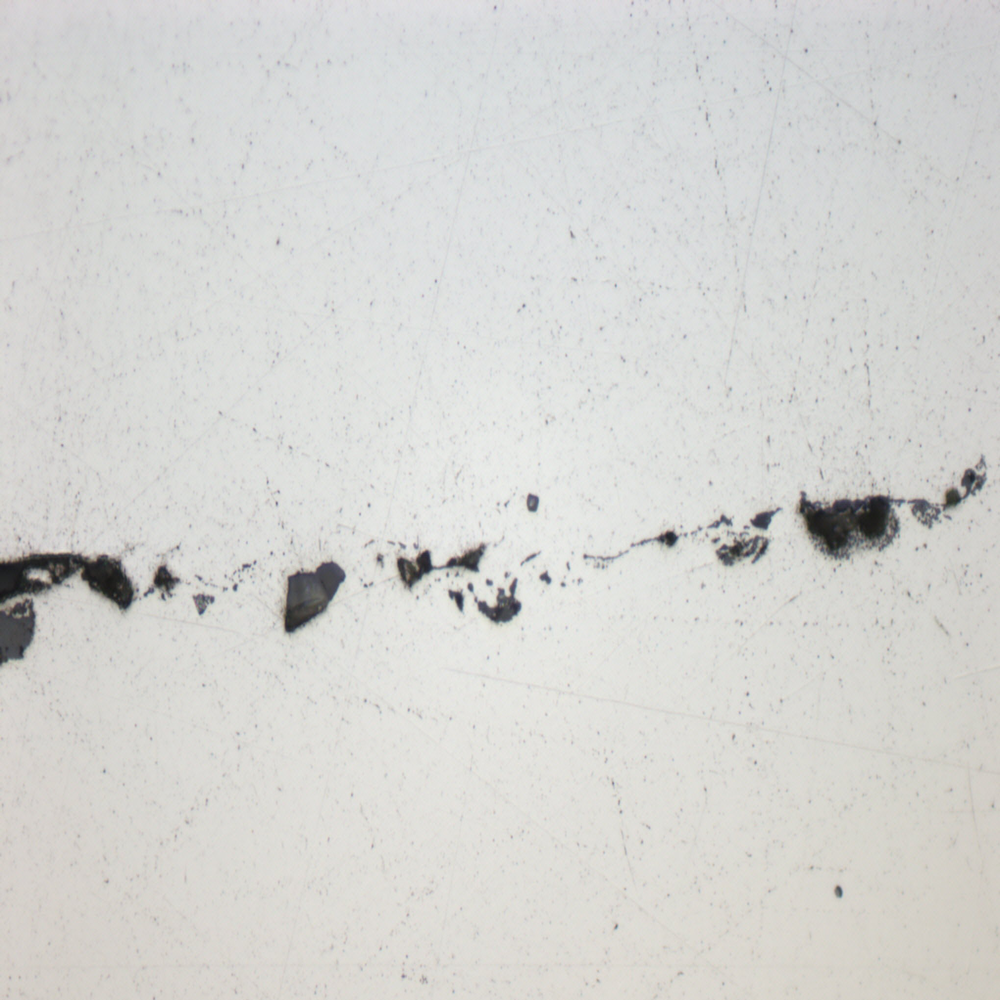crack: (589, 467, 992, 571), (392, 491, 565, 629), (1, 557, 169, 688), (262, 546, 356, 648)
